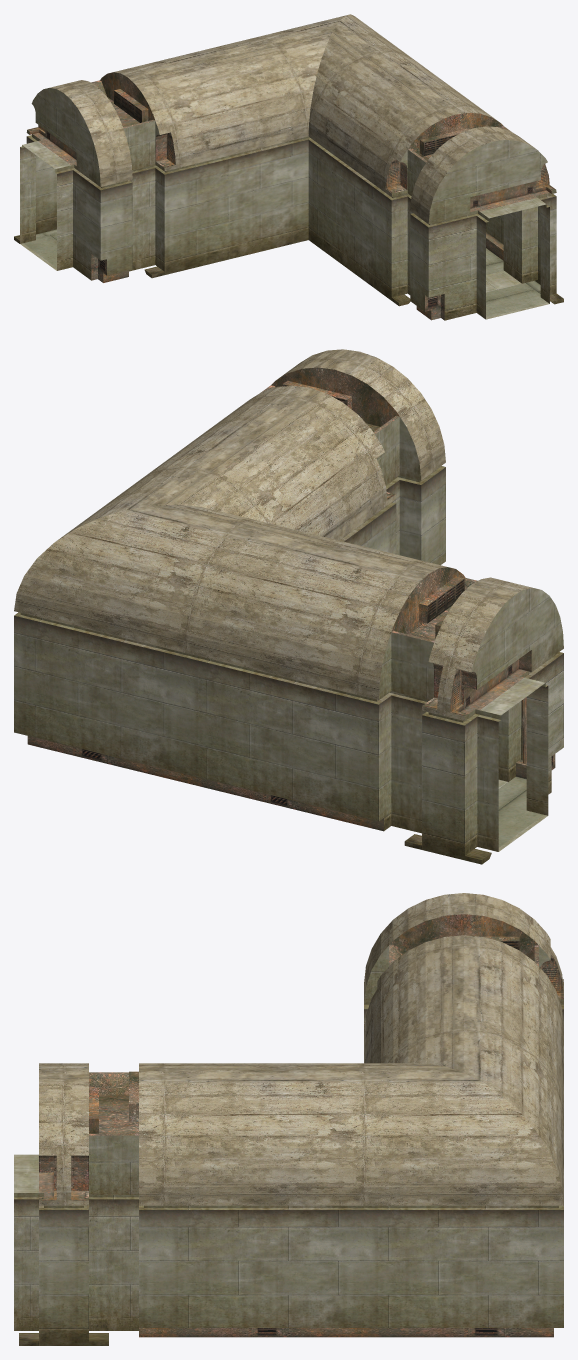
Rendered from poi_all_bunker_allum_mine_r8_hall8_mesh_r8.fbx.
The picture shows the model from 3 angles, top to bottom: view 1: azimuth 30°, elevation 25°; view 2: azimuth 150°, elevation 25°; view 3: azimuth 270°, elevation 25°; orthographic projection. The views are drawn at different scales.
Parts seen in each view (by area): view 1: mesh_node; view 2: mesh_node; view 3: mesh_node.
Boxes of the visible parts, x1,y1,x2,y2 form: mesh_node: (14, 14, 563, 320); mesh_node: (14, 349, 563, 864); mesh_node: (14, 893, 563, 1345).
Size of the model in its own units: 11 by 5.1 by 11.
